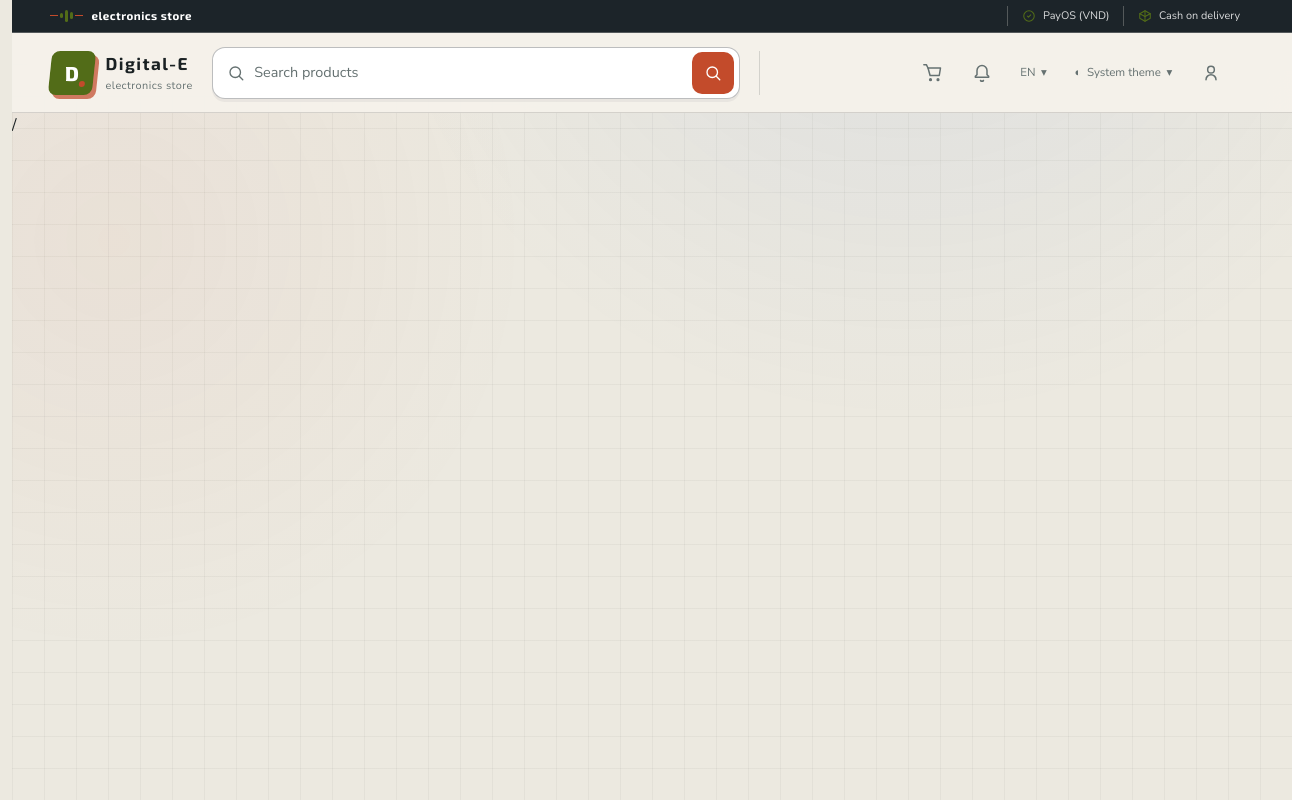
it: Header navigation controls › sends a guest to login when opening notifications
Click the button named "Notifications". click: (982, 73)
box: 960,51 -> 1004,95
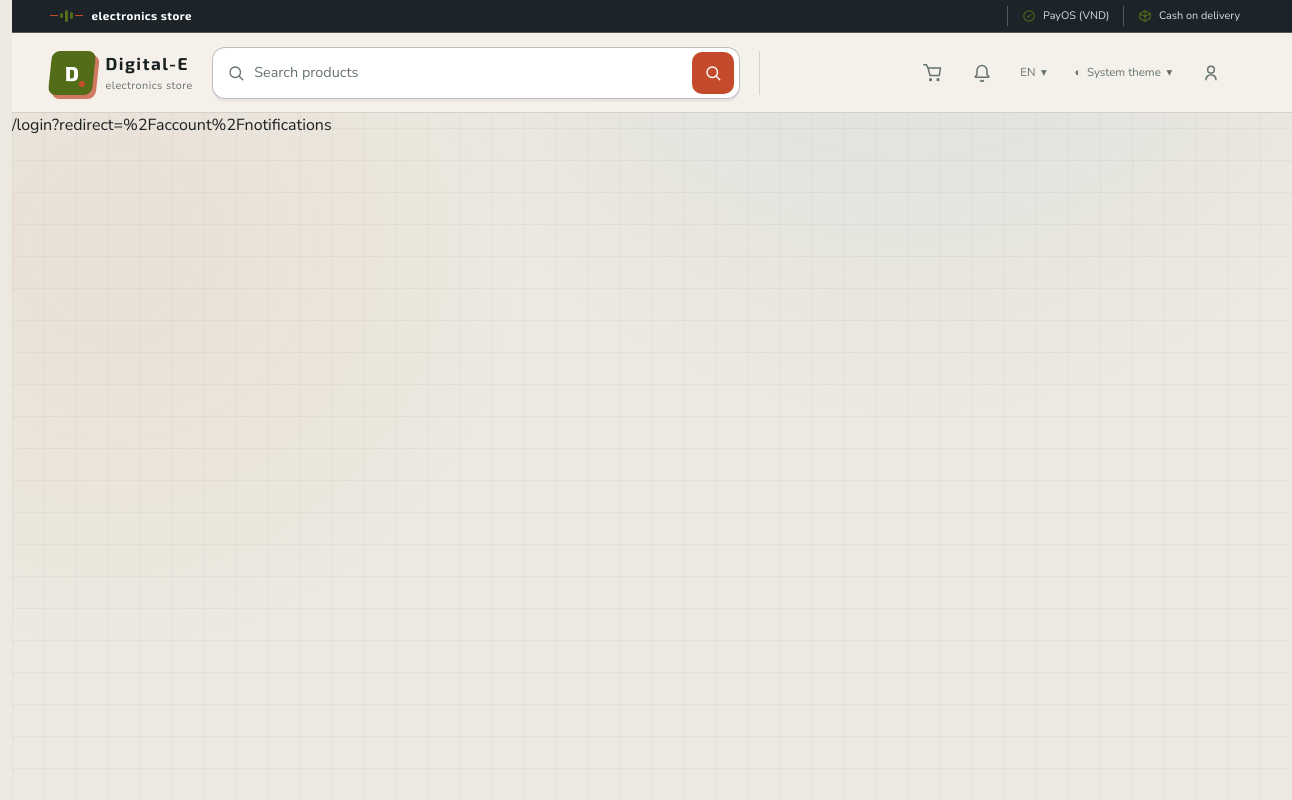
Expected: the text with test id "location" reads "/login?redirect=%2Faccount%2Fnotifications", 12,114 -> 332,136
